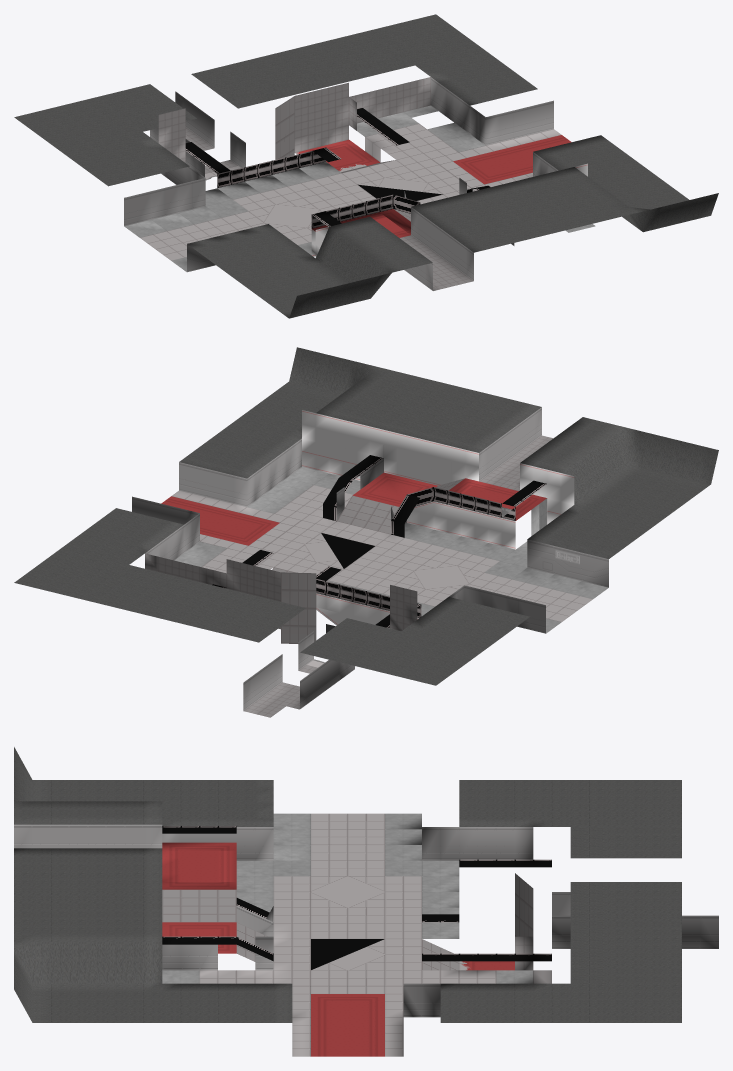
Rendered from lvl_shipBigRoom1.obj.
3 views of the same model, one above another, from view 1: azimuth 30°, elevation 25°; view 2: azimuth 150°, elevation 25°; view 3: azimuth 270°, elevation 25° (orthographic). The views are drawn at different scales.
Visible parts, largest first — view 1: Default; view 2: Default; view 3: Default.
Boxes of the visible parts, left/top/right/bottom form: Default: left=14, top=14, right=718, bottom=318; Default: left=14, top=347, right=718, bottom=717; Default: left=14, top=747, right=718, bottom=1056.
Bounding box in the file's own units: 31 × 8 × 38.
